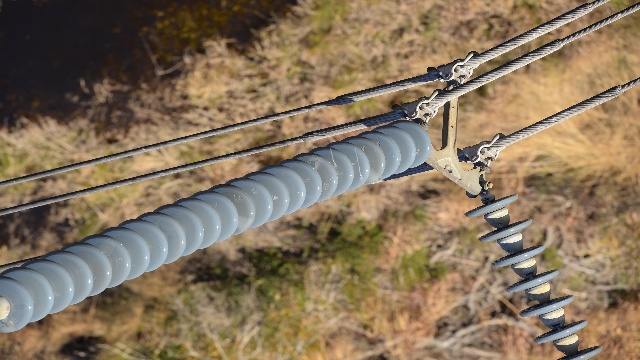insulator_unspecified: (0, 119, 430, 334), (465, 192, 604, 359)
pollution_flashover_local: (96, 234, 115, 257), (231, 213, 251, 232), (306, 154, 322, 171), (11, 302, 29, 313), (366, 169, 379, 183)
